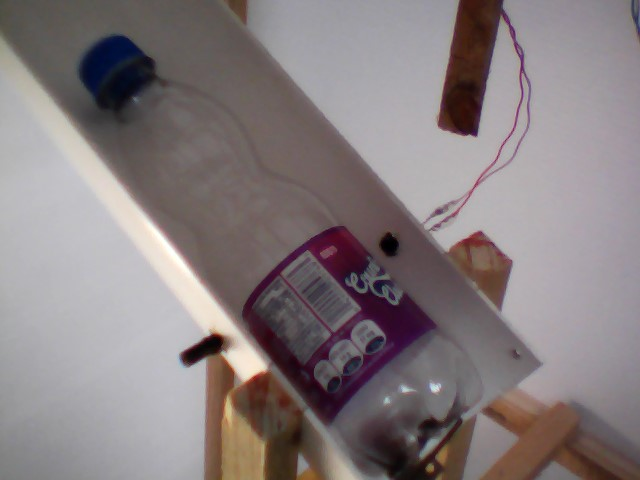plastico: (76, 31, 497, 473)
